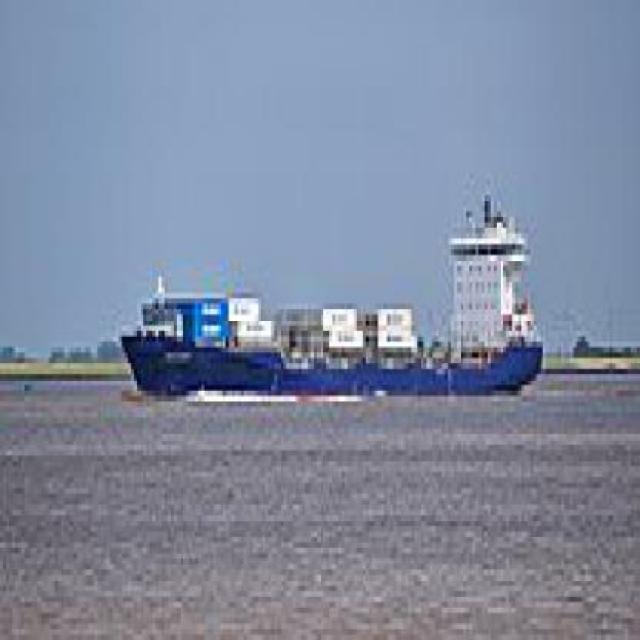container: (114, 197, 551, 414)
